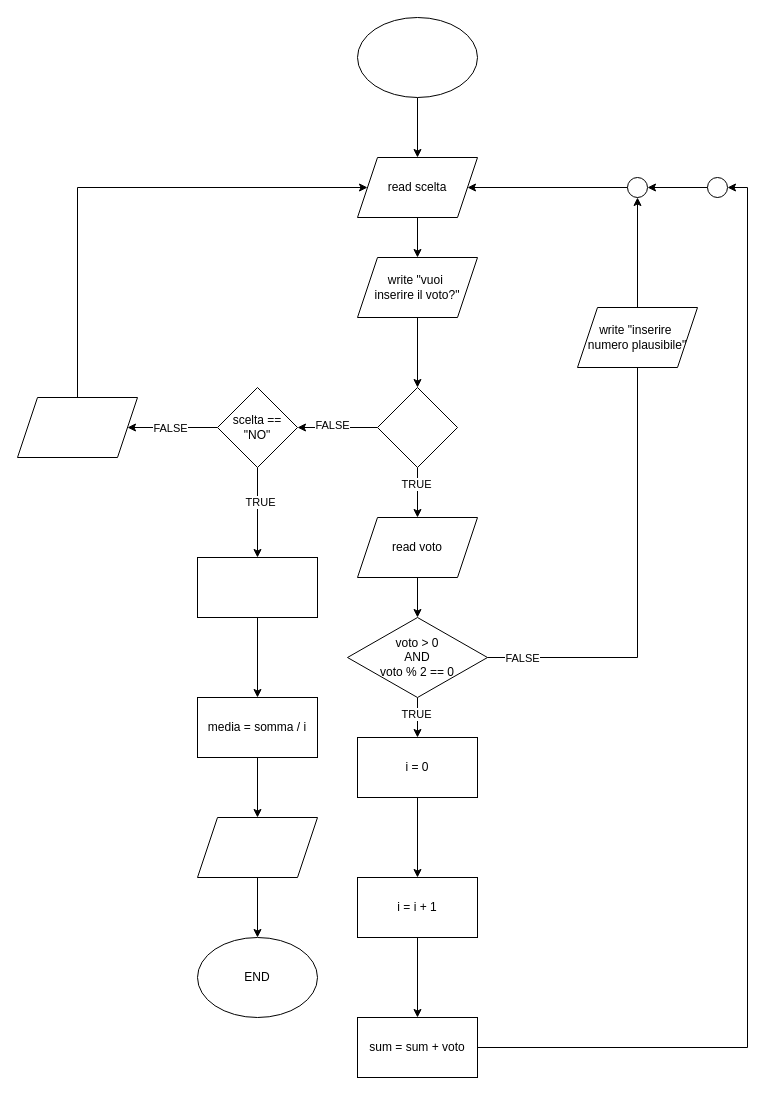
The diagram is 773 pixels wide and 1095 high, and some of its shapes have lost their labels. The shapes that lost their labels are listed below. From the top down, each one's box as (x1, y1, x2, y2) in pixels, then its label:
(356, 16, 478, 98): START
(16, 396, 138, 458): write "scegli Si o No"
(376, 386, 458, 468): scelta == "SI"
(196, 556, 318, 618): media = 0
(196, 816, 318, 878): write media
